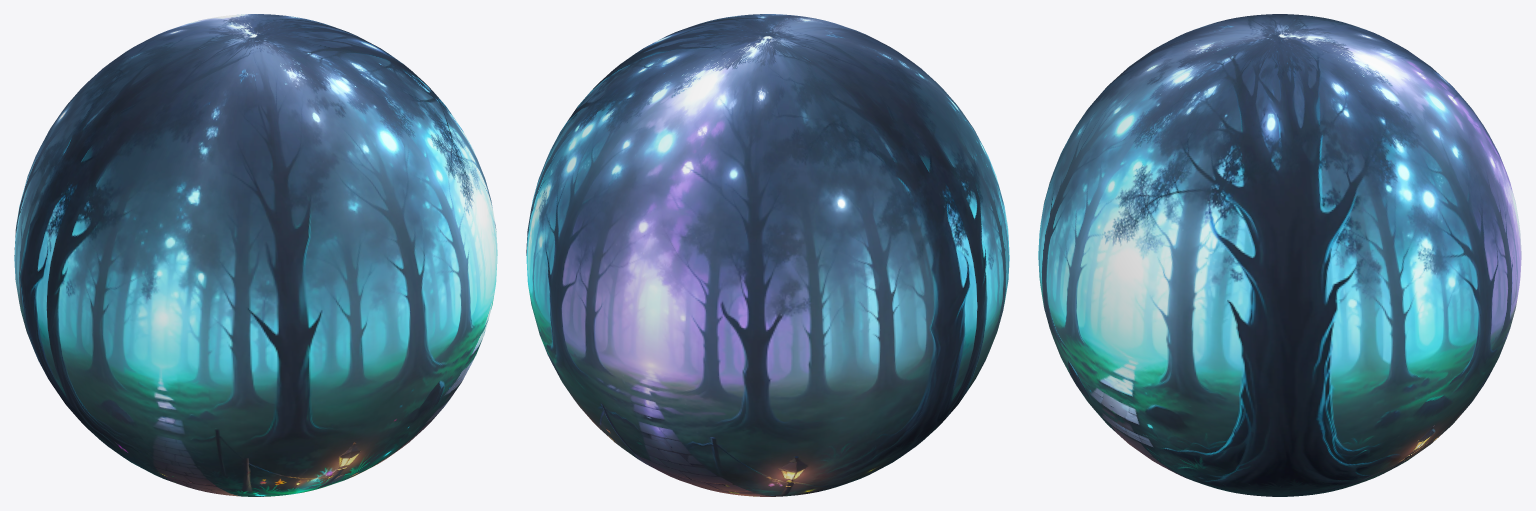
File: sky_enchanted.glb
The picture shows the model from 3 angles, left to right: view 1: azimuth 30°, elevation 25°; view 2: azimuth 150°, elevation 25°; view 3: azimuth 270°, elevation 25°; orthographic projection.
Visible parts, largest first — view 1: Sphere_Material_0; view 2: Sphere_Material_0; view 3: Sphere_Material_0.
Boxes of the visible parts, x1,y1,x2,y2 form: Sphere_Material_0: (14,14,497,496); Sphere_Material_0: (526,14,1009,496); Sphere_Material_0: (1038,14,1521,496).
Bounding box in the file's own units: 110000 × 110000 × 110000.
1 material, 1 textured.
